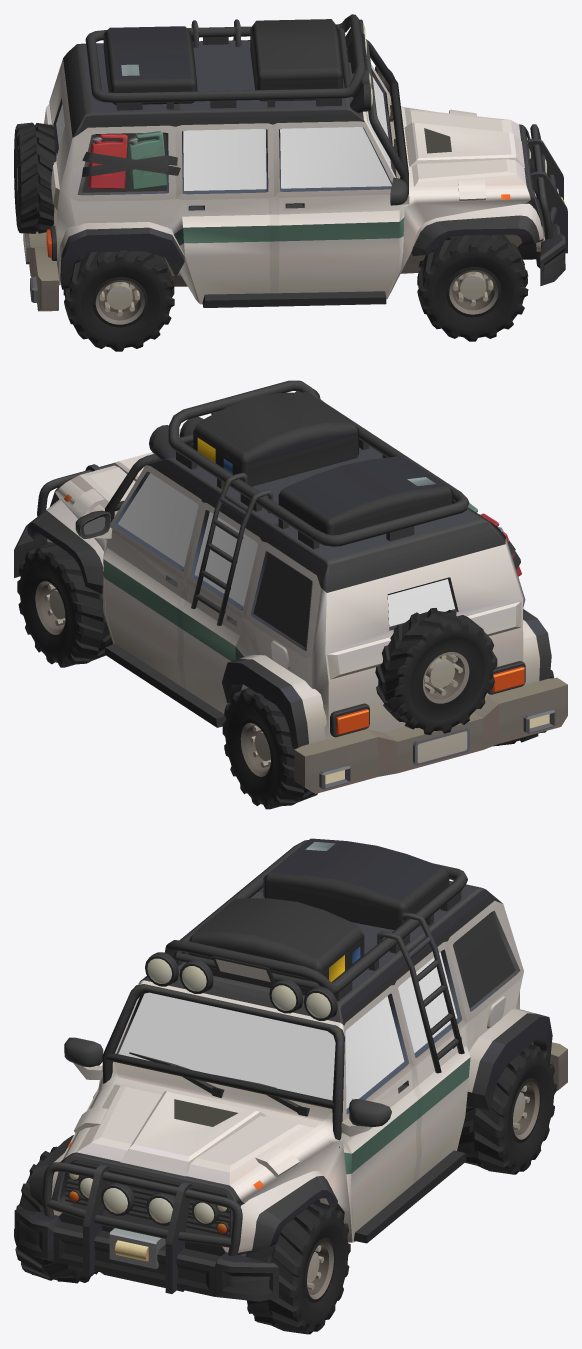
File: ParkRanger.fbx
3 views of the same model, one above another, from view 1: azimuth 30°, elevation 25°; view 2: azimuth 150°, elevation 25°; view 3: azimuth 270°, elevation 25° (orthographic). The views are drawn at different scales.
Parts seen in each view (by area): view 1: Cube_001, Car_jeep_1; view 2: Cube_001, Car_jeep_1; view 3: Cube_001, Car_jeep_1.
Part boxes in pixels (x1,y1,x2,y2): Cube_001: (14,14,567,311); Car_jeep_1: (63,234,528,351); Cube_001: (14,380,567,793); Car_jeep_1: (17,542,554,809); Cube_001: (14,838,567,1301); Car_jeep_1: (14,1044,556,1334).
Bounding box in the file's own units: 215 × 105 × 173.
